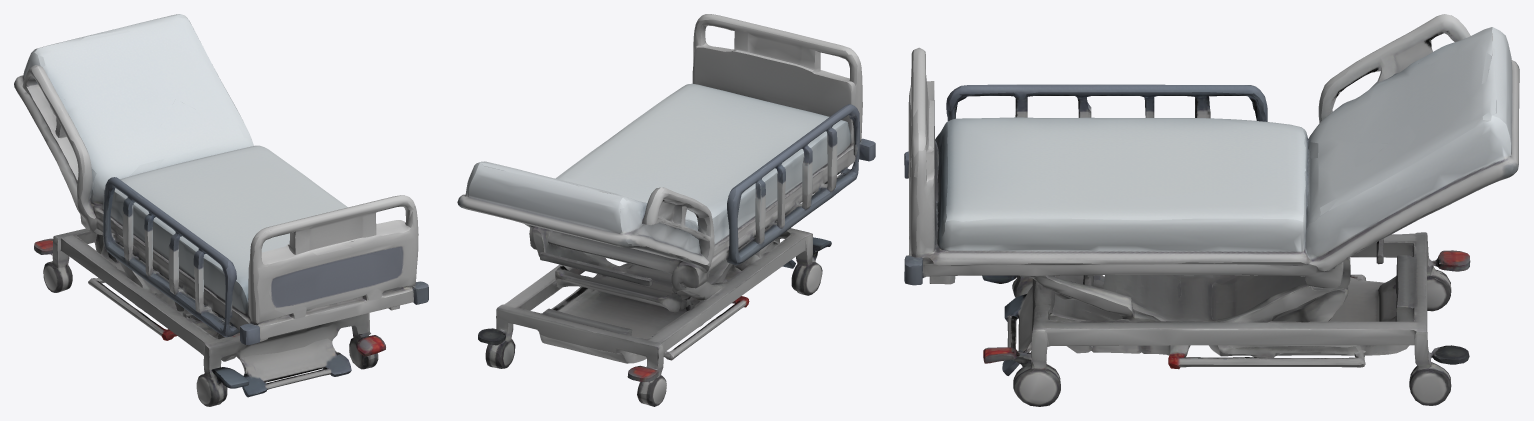
Rendered from bed without handle.fbx.
3 renders of one model, left to right at view 1: azimuth 30°, elevation 25°; view 2: azimuth 150°, elevation 25°; view 3: azimuth 270°, elevation 25°, orthographic. The views are drawn at different scales.
Parts seen in each view (by area): view 1: node_5b9b8943_9b12_47a7_aa18_ae30e9cd4234_mesh0; view 2: node_5b9b8943_9b12_47a7_aa18_ae30e9cd4234_mesh0; view 3: node_5b9b8943_9b12_47a7_aa18_ae30e9cd4234_mesh0.
Boxes of the visible parts, x1,y1,x2,y2 form: node_5b9b8943_9b12_47a7_aa18_ae30e9cd4234_mesh0: [14, 14, 428, 406]; node_5b9b8943_9b12_47a7_aa18_ae30e9cd4234_mesh0: [457, 14, 875, 406]; node_5b9b8943_9b12_47a7_aa18_ae30e9cd4234_mesh0: [904, 14, 1519, 406].
Bounding box in the file's own units: 45.37 × 51.43 × 100.
Materials: 1 (1 with a texture image).
